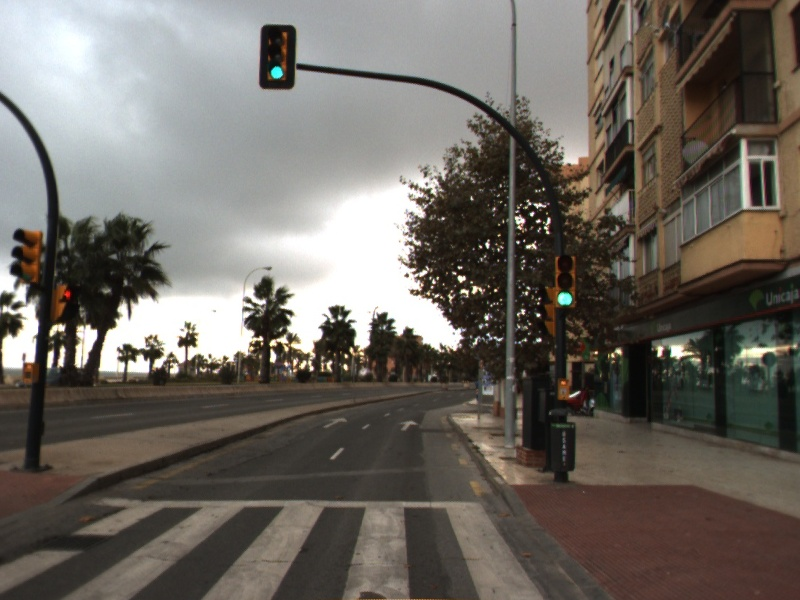STRAIGHT: (321, 416, 349, 430), (397, 419, 421, 432)
